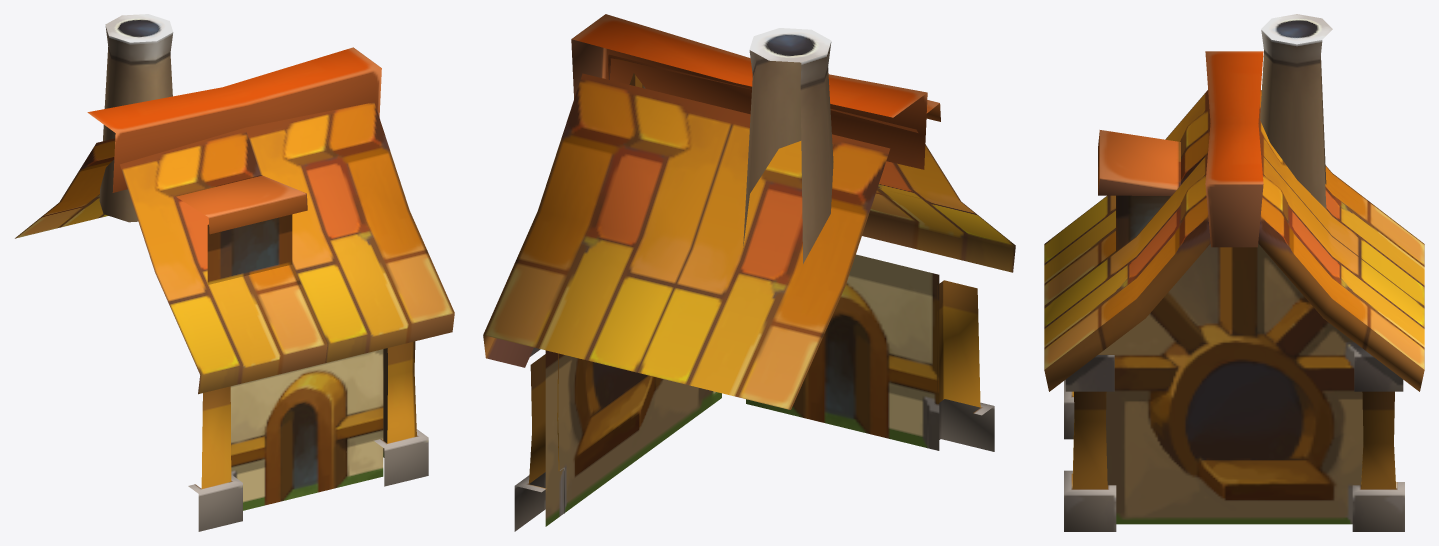
File: B_ArchitectHouse01.fbx
3 renders of one model, left to right at view 1: azimuth 30°, elevation 25°; view 2: azimuth 150°, elevation 25°; view 3: azimuth 270°, elevation 25°, orthographic. The views are drawn at different scales.
Visible parts, largest first — view 1: B_ArchitectHouse01_01; view 2: B_ArchitectHouse01_01; view 3: B_ArchitectHouse01_01.
Boxes of the visible parts, x1=… form: B_ArchitectHouse01_01: x1=15, y1=14, x2=454, y2=531; B_ArchitectHouse01_01: x1=483, y1=14, x2=1015, y2=531; B_ArchitectHouse01_01: x1=1044, y1=14, x2=1424, y2=531.
Size of the model in its own units: 2.19 by 3.2 by 2.65.
1 material, 1 textured.
